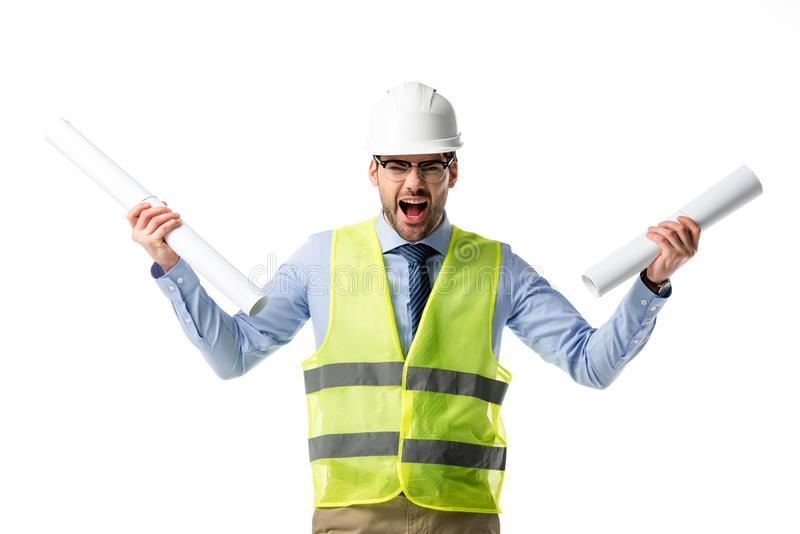helmet: (365, 80, 466, 160)
